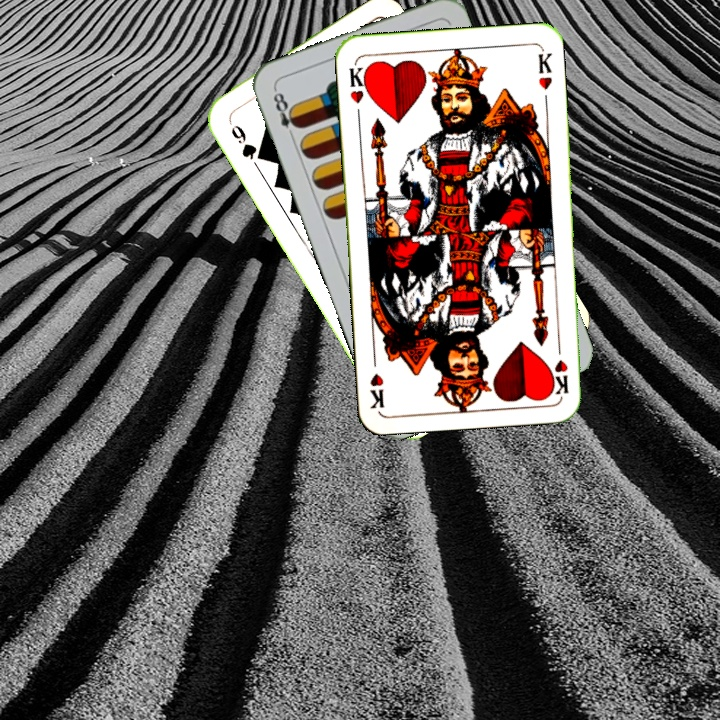E8: (269, 85, 303, 143)
G9: (227, 120, 267, 163)
HK: (345, 60, 372, 119), (549, 337, 571, 396)
